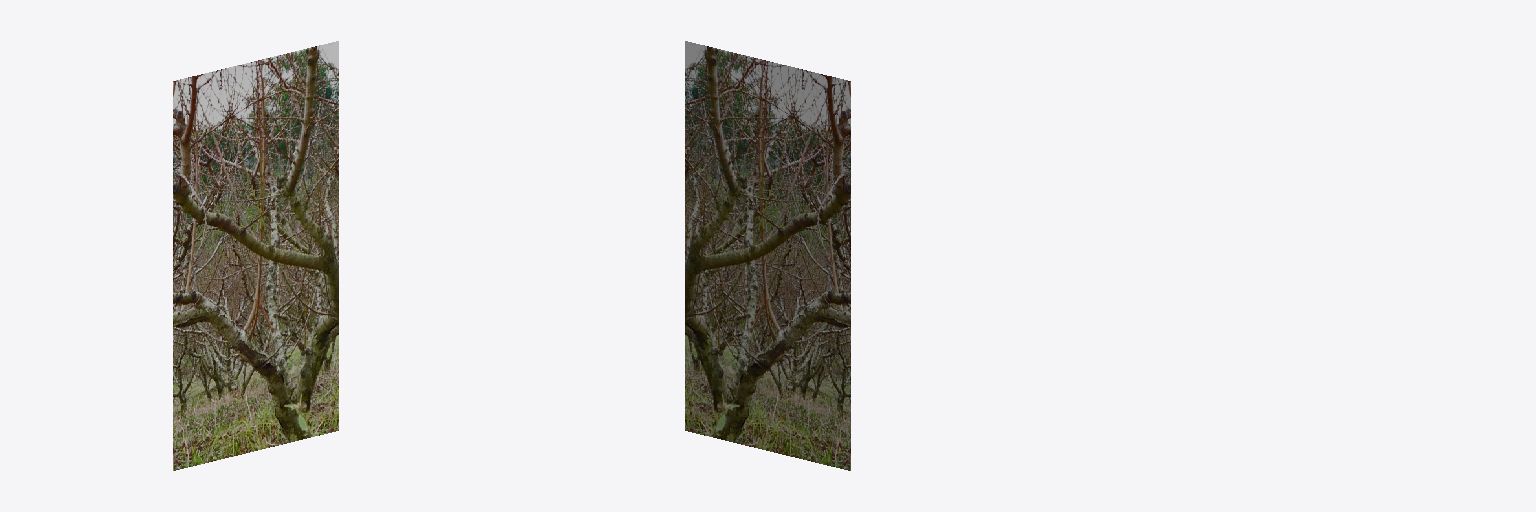
3 views of the same model, side by side, from view 1: azimuth 30°, elevation 25°; view 2: azimuth 150°, elevation 25°; view 3: azimuth 270°, elevation 25° (orthographic).
Visible parts, largest first — view 1: Pessegueiros_01; view 2: Pessegueiros_01; view 3: none.
Part boxes in pixels (x1,y1,x2,y2): Pessegueiros_01: (173, 41, 338, 470); Pessegueiros_01: (685, 41, 850, 470).
Size of the model in its own units: 1.81 by 4.08 by 0.
Materials: 1 (1 with a texture image).